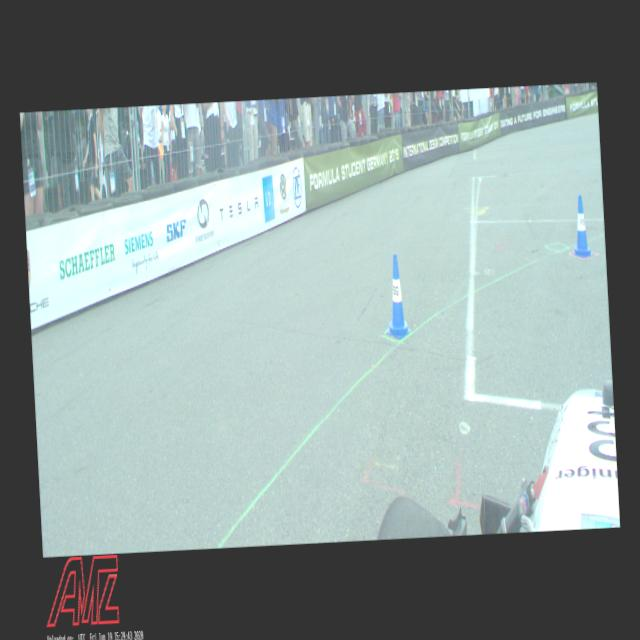blue_cone: (382, 254, 412, 340), (569, 194, 594, 259)
